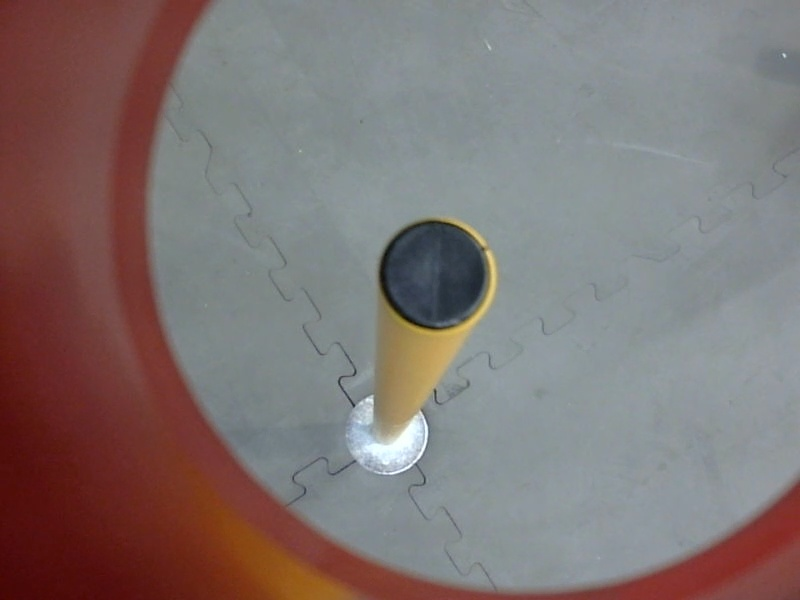tip: (373, 210, 505, 338)
